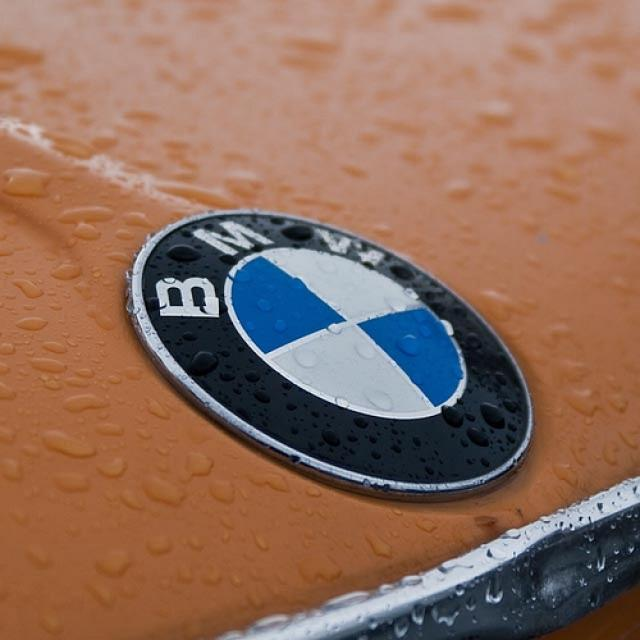bmw: (125, 208, 539, 499)
